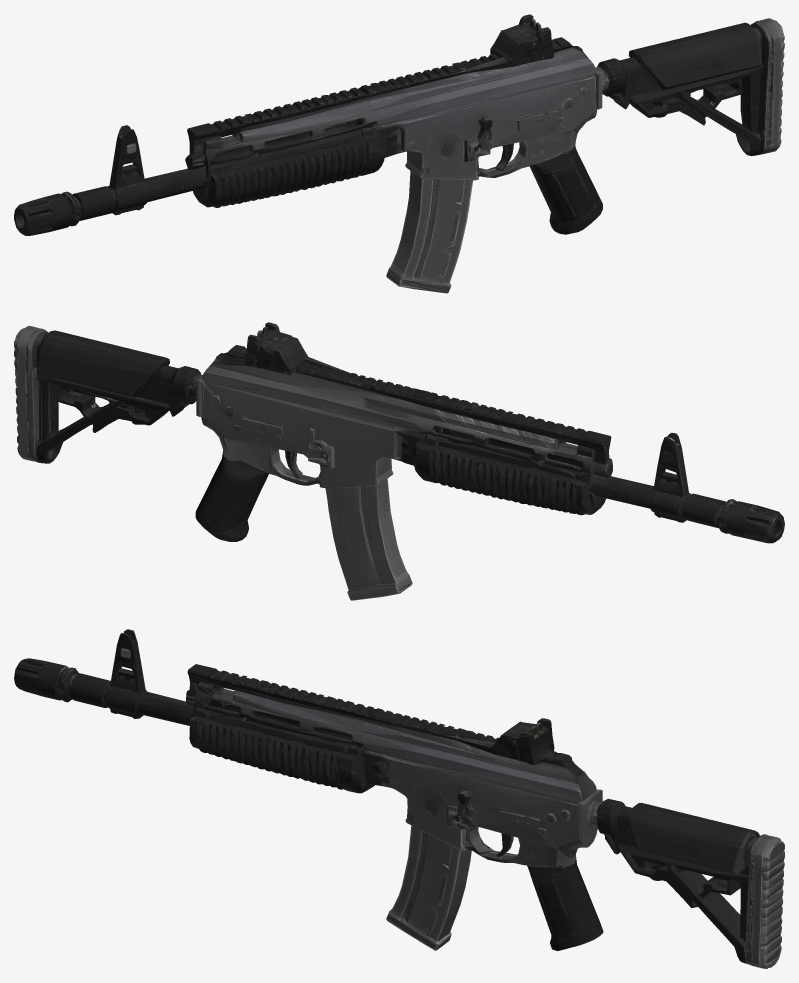
The picture shows the model from 3 angles, top to bottom: view 1: azimuth 30°, elevation 25°; view 2: azimuth 150°, elevation 25°; view 3: azimuth 330°, elevation 25°; orthographic projection.
Bounding box in the file's own units: 1.9 × 0.5853 × 0.1401.
Materials: 1 (1 with a texture image).
